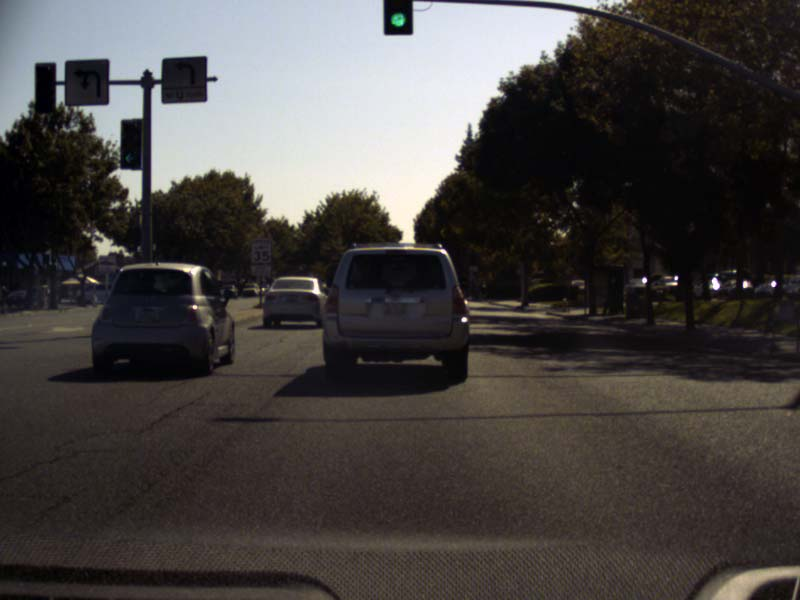Green: (120, 118, 141, 168)
